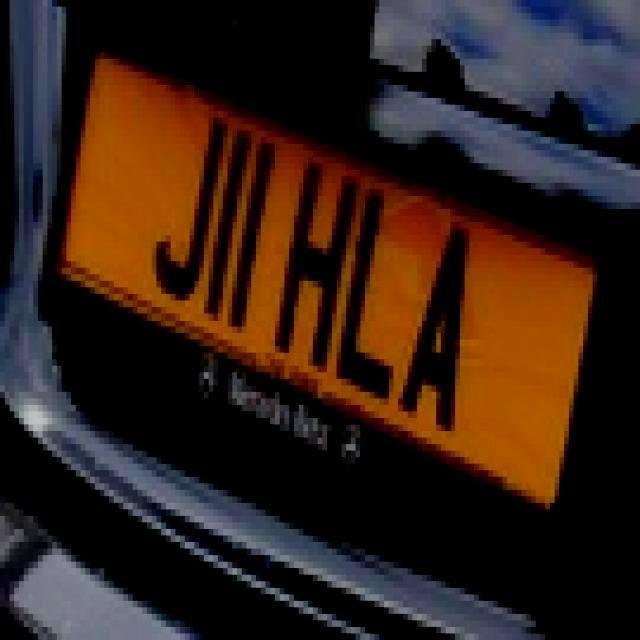LicensePlate: (63, 22, 602, 511)
